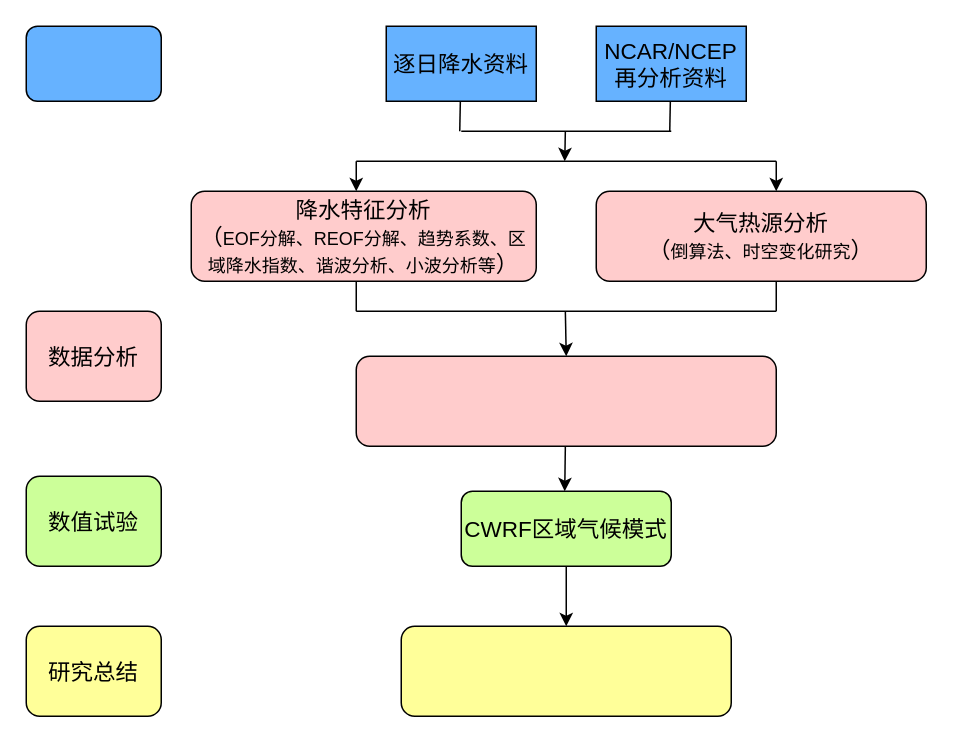
The diagram is 953 pixels wide and 743 high, and some of its shapes have lost their labels. The centre of each missing label's shape, as x and y in pixels:
"大气热源与降水之间相关性 （合成分析、相关分析、SVD分解、Mont-Carlo显著性检验）" belongs at point (565, 400).
"数据收集" belongs at point (93, 63).
"青藏高原大气源与雨季降水变化影响机制" belongs at point (565, 670).
